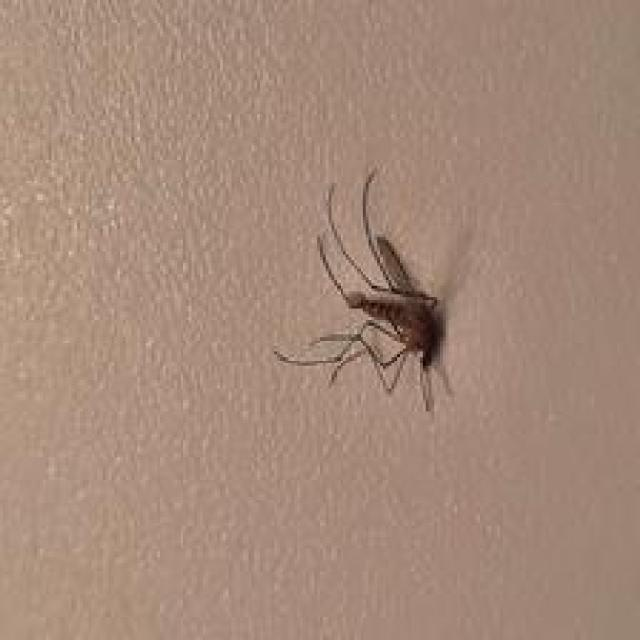Culex: (273, 164, 456, 413)
